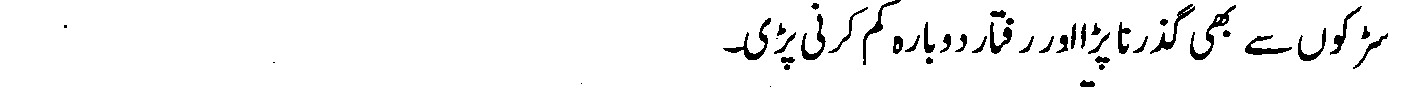bay_shosha: (921, 39, 936, 64)
